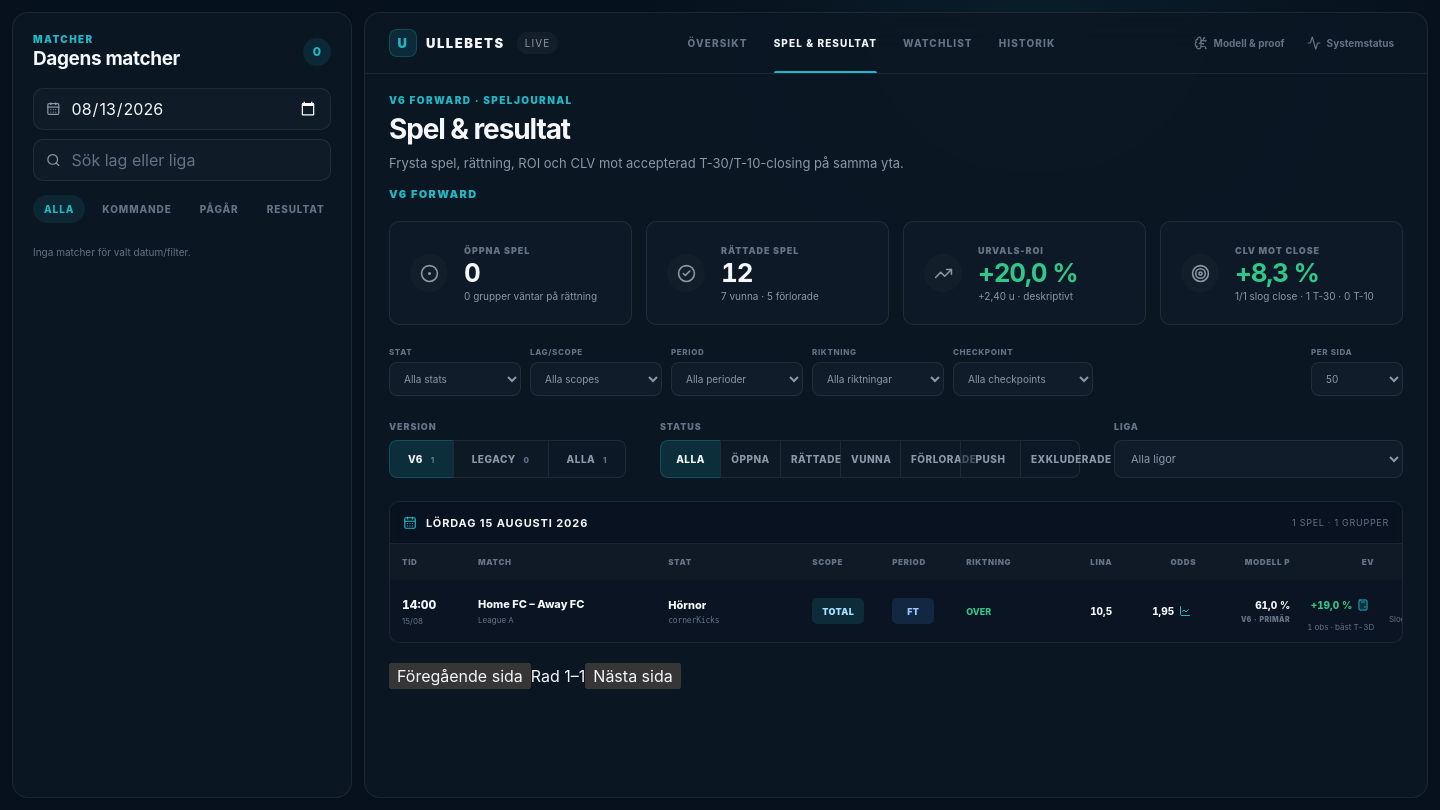
Test case: Spel & resultat med accepterad CLV › öppnar oddsrörelsen med hover-, fokus- och touch-kompatibel kontroll
Hover over the button named "Visa oddsrörelse för Home FC mot Away FC" at [1170, 611], box [1144,596,1196,626]
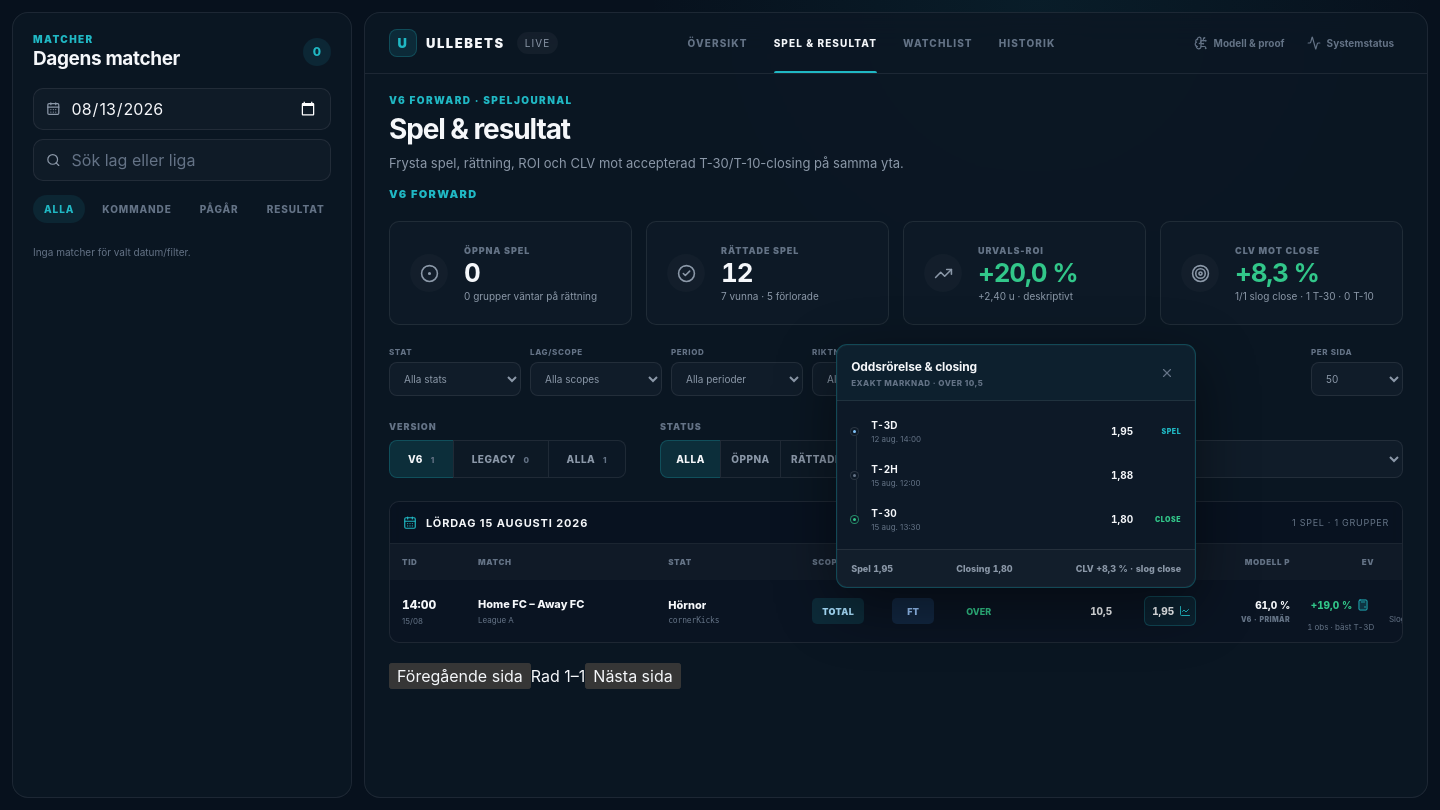
Check: the button named "Visa oddsrörelse för Home FC mot Away FC" is expanded, box [1144,596,1196,626]
Check: the heading "Oddsrörelse & closing" is shown, box [851,359,983,374]
Check: the text "T-3D" is shown, box [871,419,898,431]
Press Escape
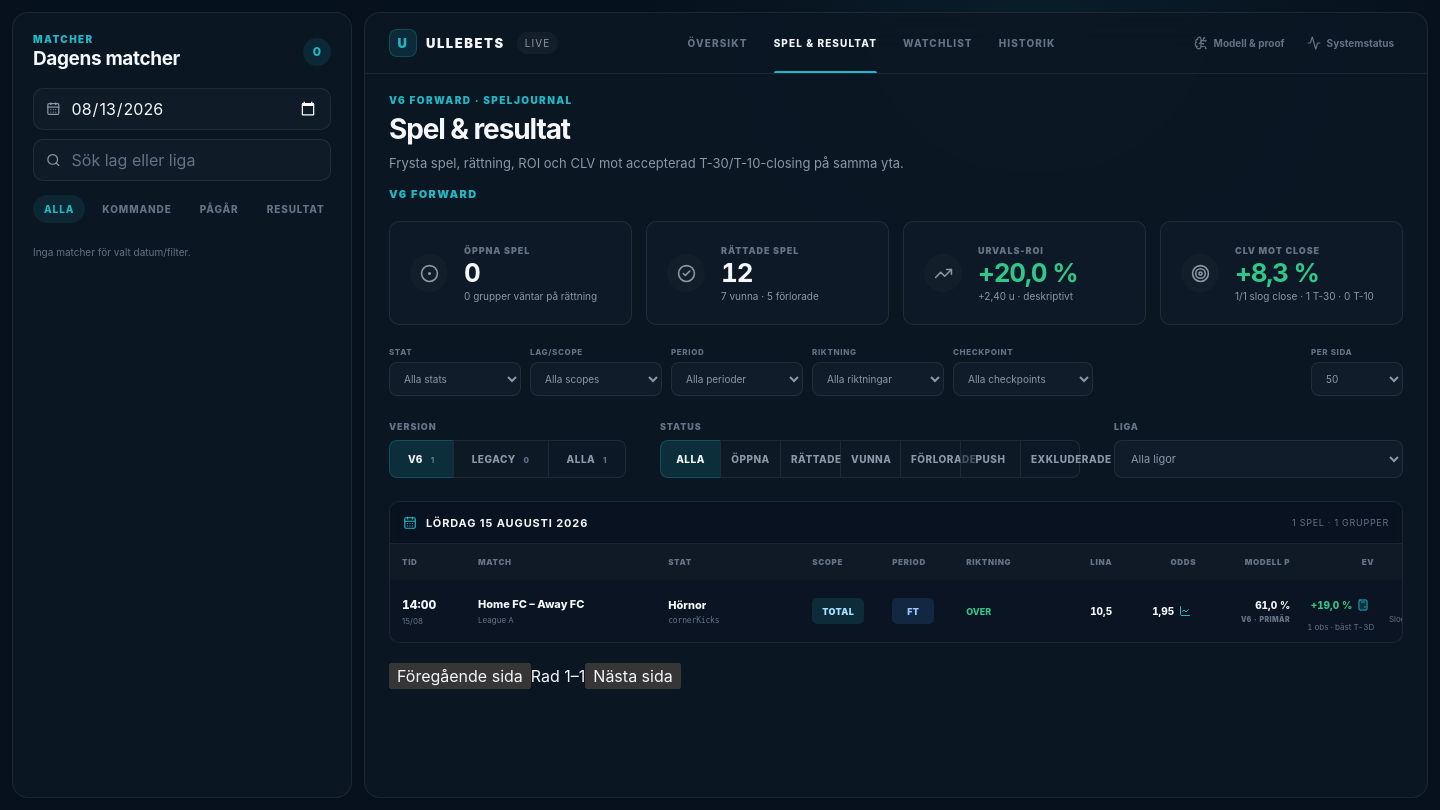
Check: the button named "Visa oddsrörelse för Home FC mot Away FC" is collapsed
Focus the button named "Visa oddsrörelse för Home FC mot Away FC" at [1170, 611], box [1144,596,1196,626]
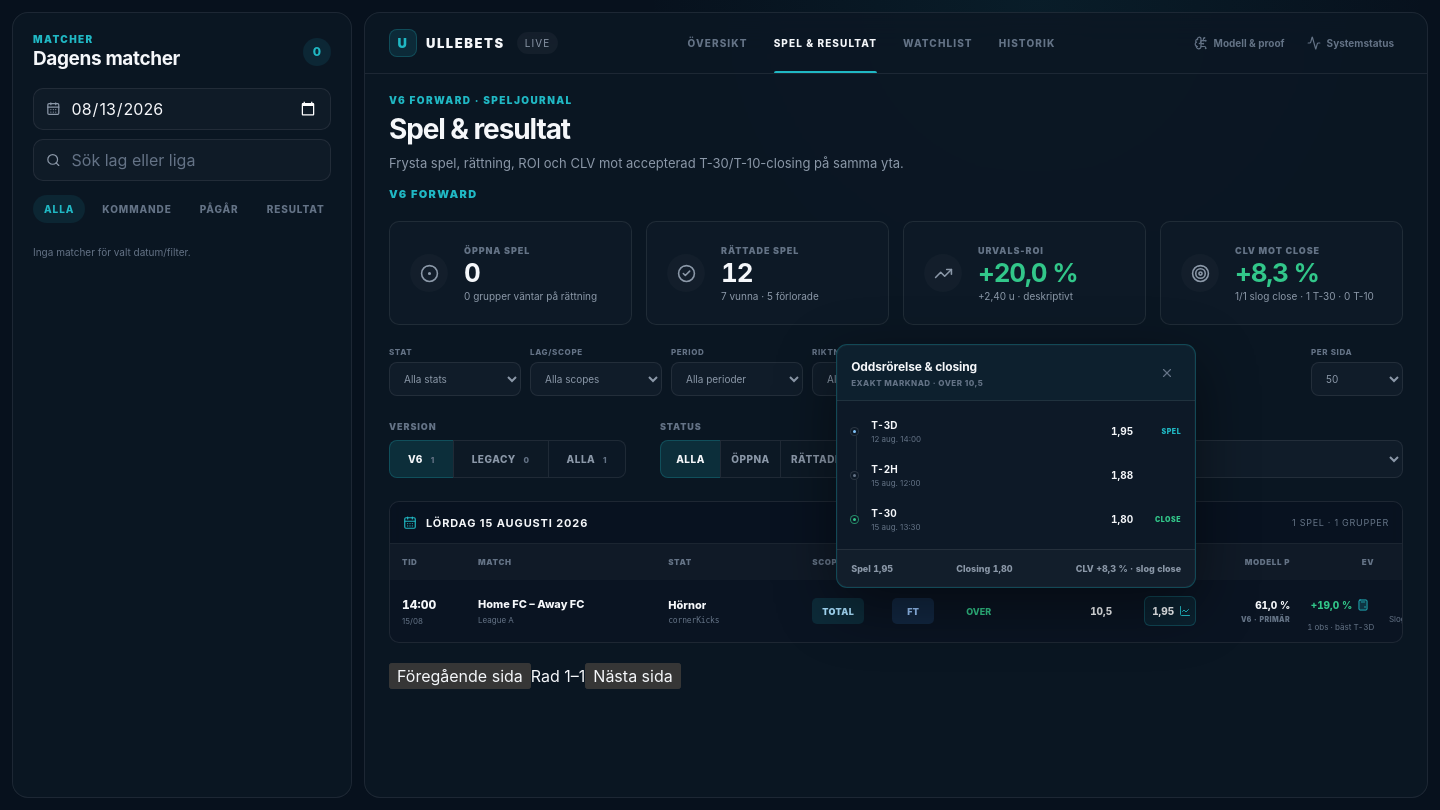
Check: the button named "Visa oddsrörelse för Home FC mot Away FC" is expanded, box [1144,596,1196,626]
Press Escape
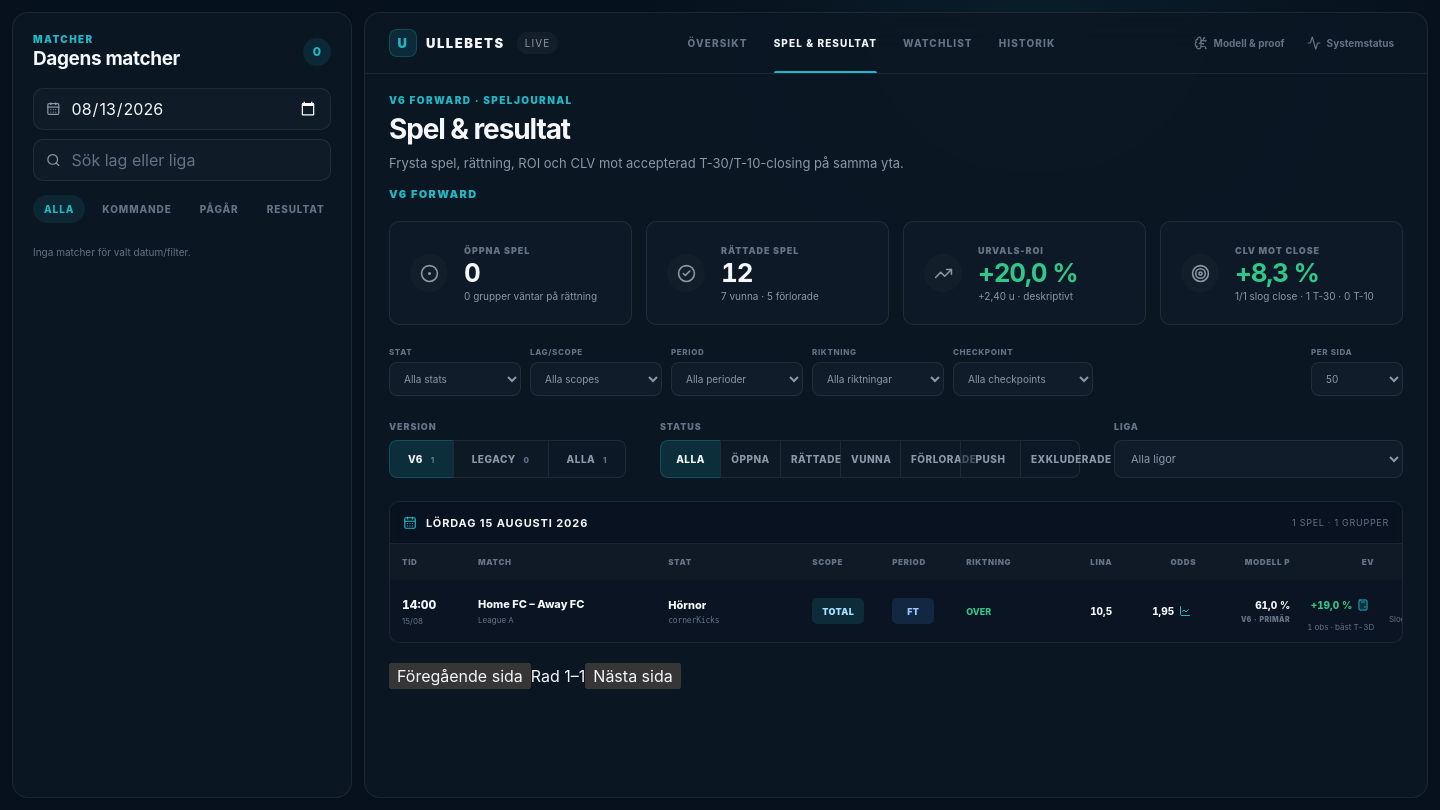
Check: the button named "Visa oddsrörelse för Home FC mot Away FC" is collapsed
Click the button named "Visa oddsrörelse för Home FC mot Away FC" at [1170, 611], box [1144,596,1196,626]
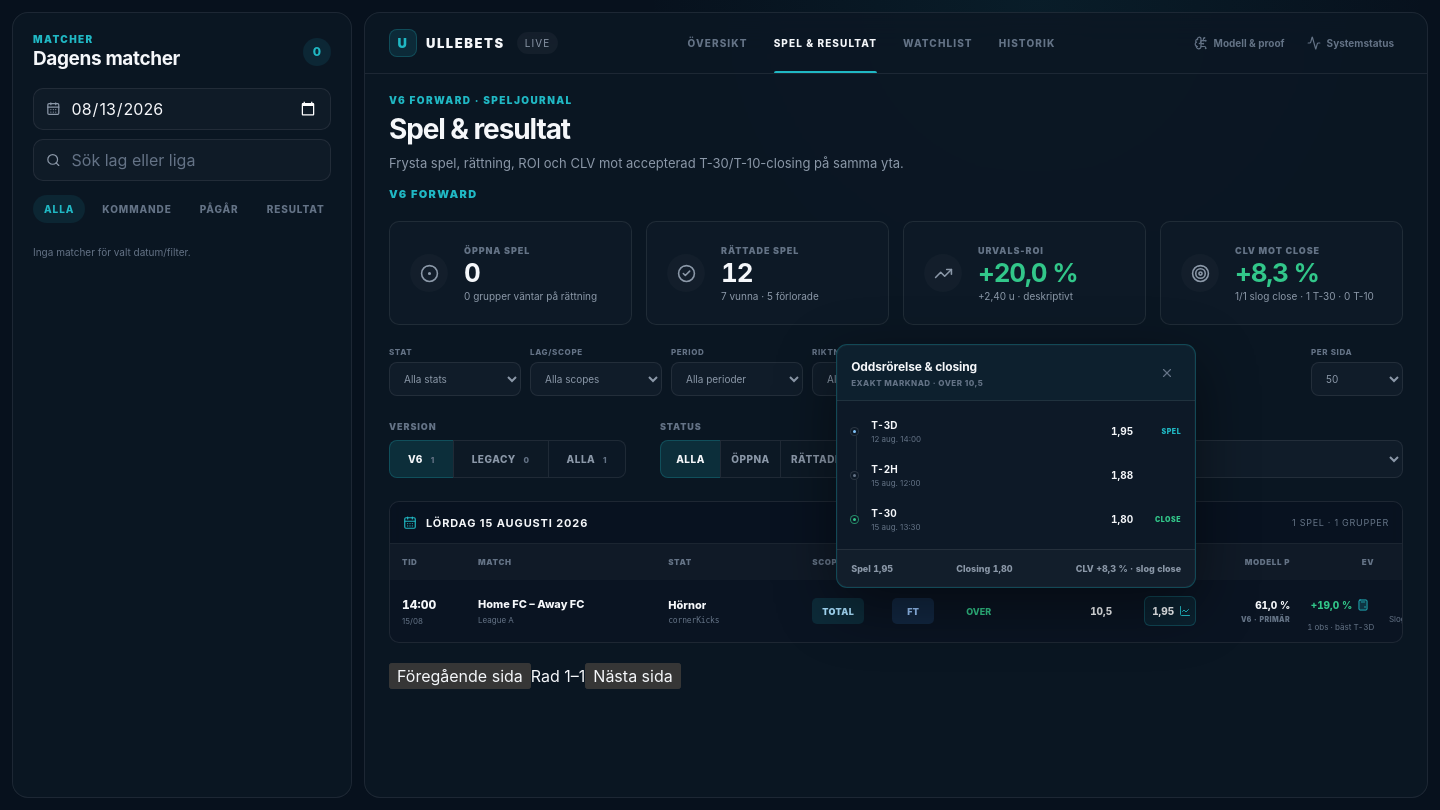
Check: the button named "Visa oddsrörelse för Home FC mot Away FC" is expanded, box [1144,596,1196,626]
